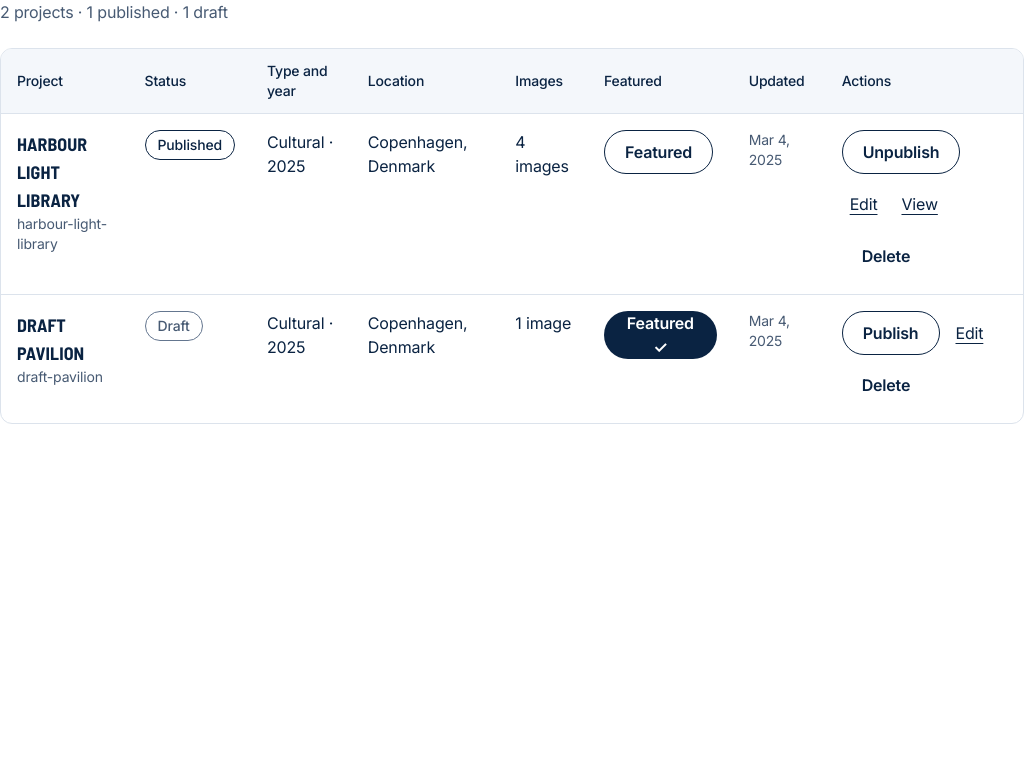
Test case: deleting › asks for confirmation first, naming the project and its images, and sends nothing yet
The image size is (1024, 768).
Step 1. Click the button with aria-label "Delete Harbour Light Library" → (886, 256), box 842,234 -> 930,278
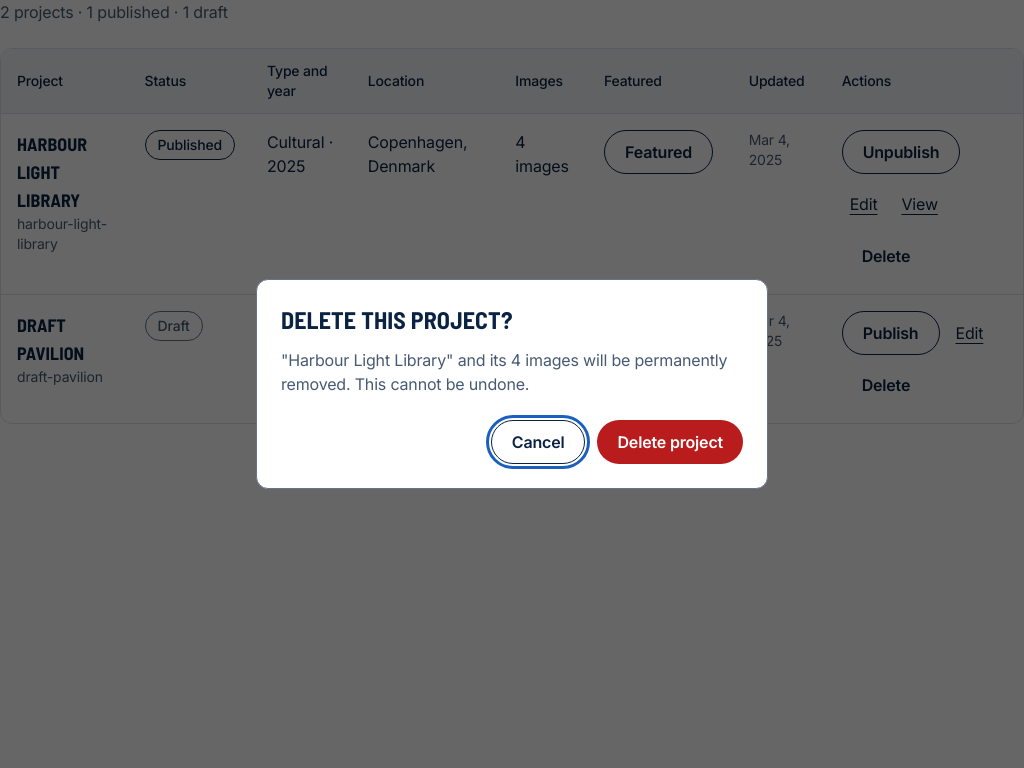
Check: the dialog "Delete this project?" is shown, box 256,279 -> 768,489
Check: the text "\"Harbour Light Library\" and its 4 images will be permanently removed" is shown, box 281,350 -> 727,394
